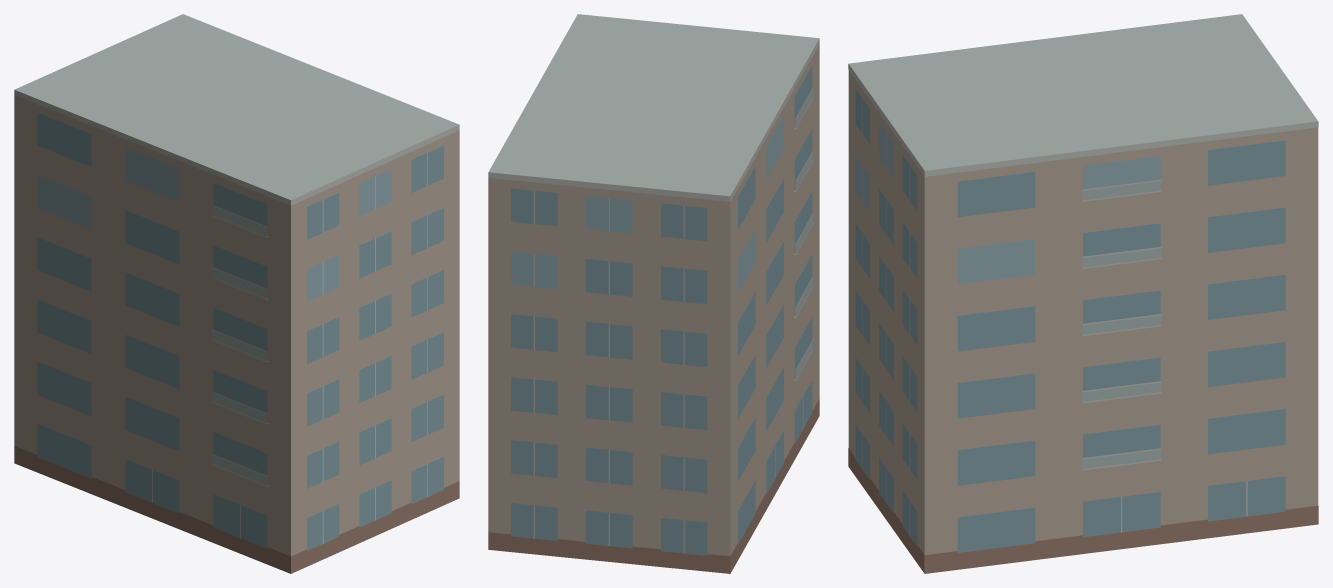
The model's file is survey-upis-32624678.glb.
3 views of the same model, side by side, from view 1: azimuth 30°, elevation 25°; view 2: azimuth 150°, elevation 25°; view 3: azimuth 270°, elevation 25° (orthographic). The views are drawn at different scales.
Visible parts, largest first — view 1: survey-upis-32624678.tmp; view 2: survey-upis-32624678.tmp; view 3: survey-upis-32624678.tmp.
Boxes of the visible parts, bbox=[...] form: survey-upis-32624678.tmp: bbox=[14, 14, 459, 573]; survey-upis-32624678.tmp: bbox=[488, 14, 819, 573]; survey-upis-32624678.tmp: bbox=[848, 14, 1318, 573].
Bounding box in the file's own units: 13.83 × 16.55 × 17.51.
